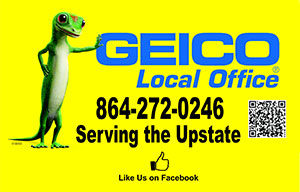geico: (96, 28, 287, 69)
